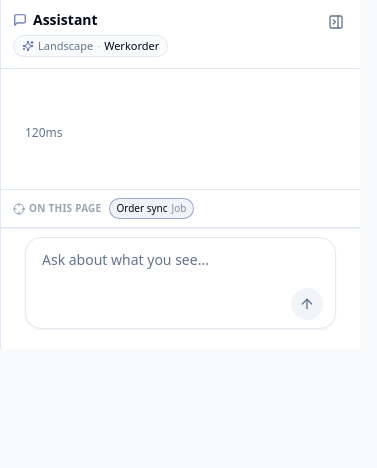
it: PageCopilot progressive reveal › completes the reveal when the user jumps to a target
Click the button "Order sync Job": (152, 208) [110,198,194,219]
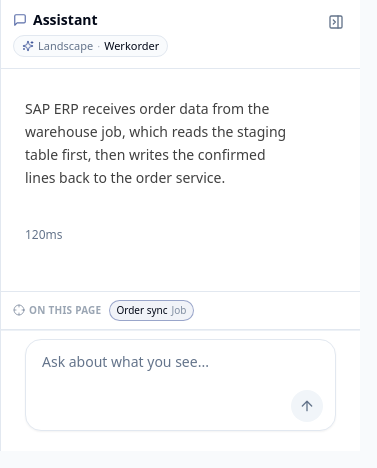
Check: the element "Assistant" shows "writes the confirmed lines back to the order service.", box [25,99,286,187]
